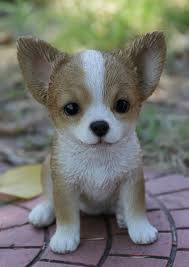Chihuahua: (6, 19, 180, 256)
